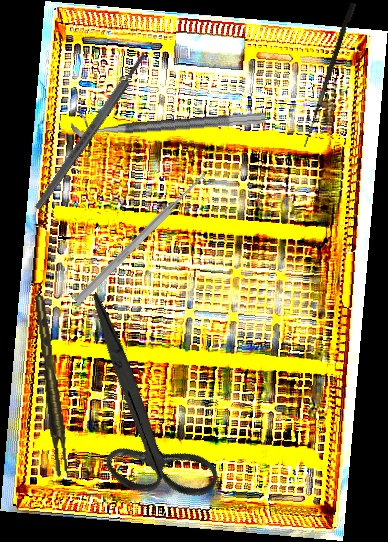Fixation Ring: (70, 96, 266, 138)
Hook Surgical: (303, 1, 357, 150)
Iris Scissors: (12, 290, 268, 530)
Pusher: (72, 169, 210, 307)
Scalpel Handle: (32, 51, 149, 212)
Tissue Forceps: (35, 293, 69, 478)
